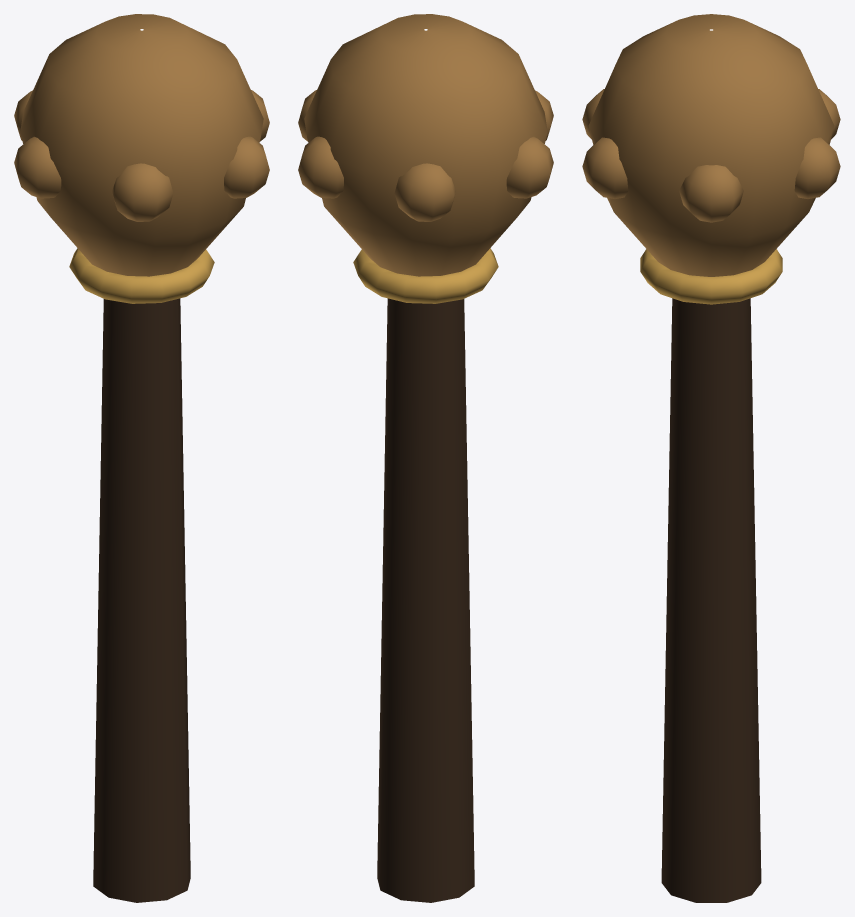
File: blunt.glb
3 renders of one model, left to right at view 1: azimuth 30°, elevation 25°; view 2: azimuth 150°, elevation 25°; view 3: azimuth 270°, elevation 25°, orthographic.
Visible parts, largest first — view 1: handle, head, knob (×3), band; view 2: handle, head, knob (×3), band; view 3: handle, head, knob (×3), band.
Boxes of the visible parts, x1=… form: handle: x1=93, y1=298, x2=190, y2=902; head: x1=20, y1=14, x2=263, y2=276; knob (×3): x1=14, y1=136, x2=269, y2=221; band: x1=69, y1=248, x2=214, y2=303; handle: x1=377, y1=298, x2=474, y2=902; head: x1=304, y1=14, x2=547, y2=276; knob (×3): x1=298, y1=136, x2=553, y2=221; band: x1=353, y1=248, x2=498, y2=303; handle: x1=661, y1=298, x2=761, y2=902; head: x1=588, y1=14, x2=834, y2=276; knob (×3): x1=582, y1=137, x2=840, y2=222; band: x1=640, y1=249, x2=782, y2=304.
Size of the model in its own units: 0.15 by 0.49 by 0.1345.
